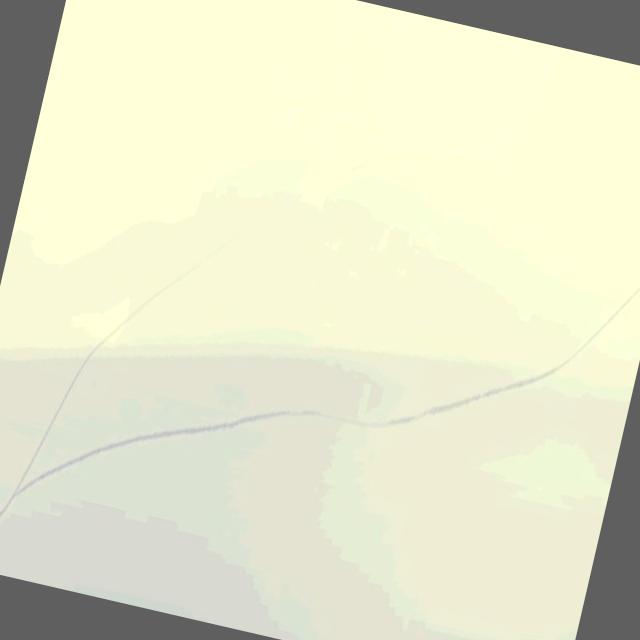crack: (36, 332, 378, 590)
